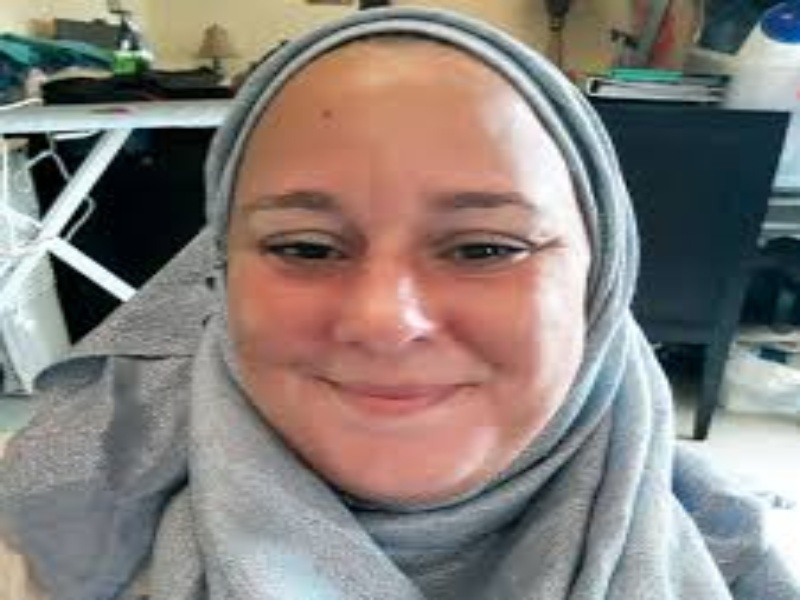face: (229, 175, 580, 438)
